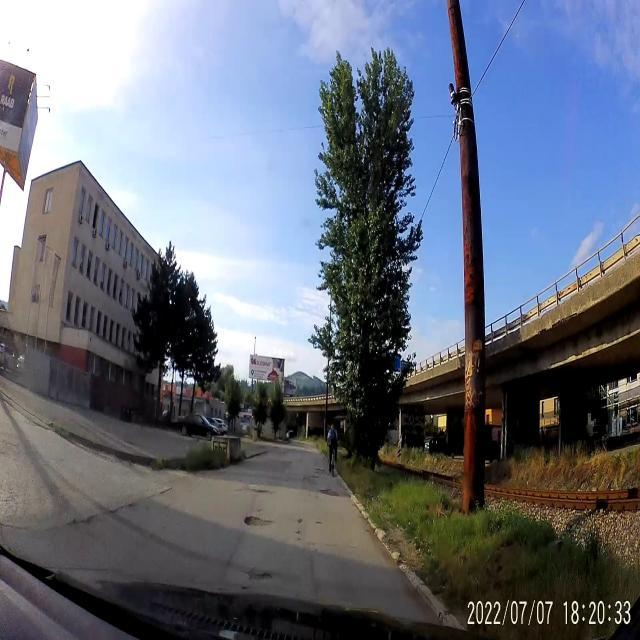Pothole: (242, 510, 276, 540), (247, 560, 275, 585), (248, 482, 274, 504), (315, 485, 339, 505), (294, 515, 306, 544), (314, 518, 324, 528), (310, 474, 322, 480), (314, 466, 326, 470)
